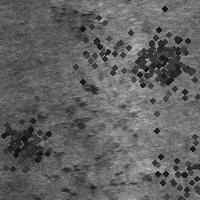rolled-in_scale: (41, 82, 153, 198), (115, 14, 200, 114), (53, 6, 143, 96), (129, 23, 200, 113), (126, 125, 200, 200), (127, 22, 193, 88), (0, 105, 57, 175), (46, 1, 107, 37)
